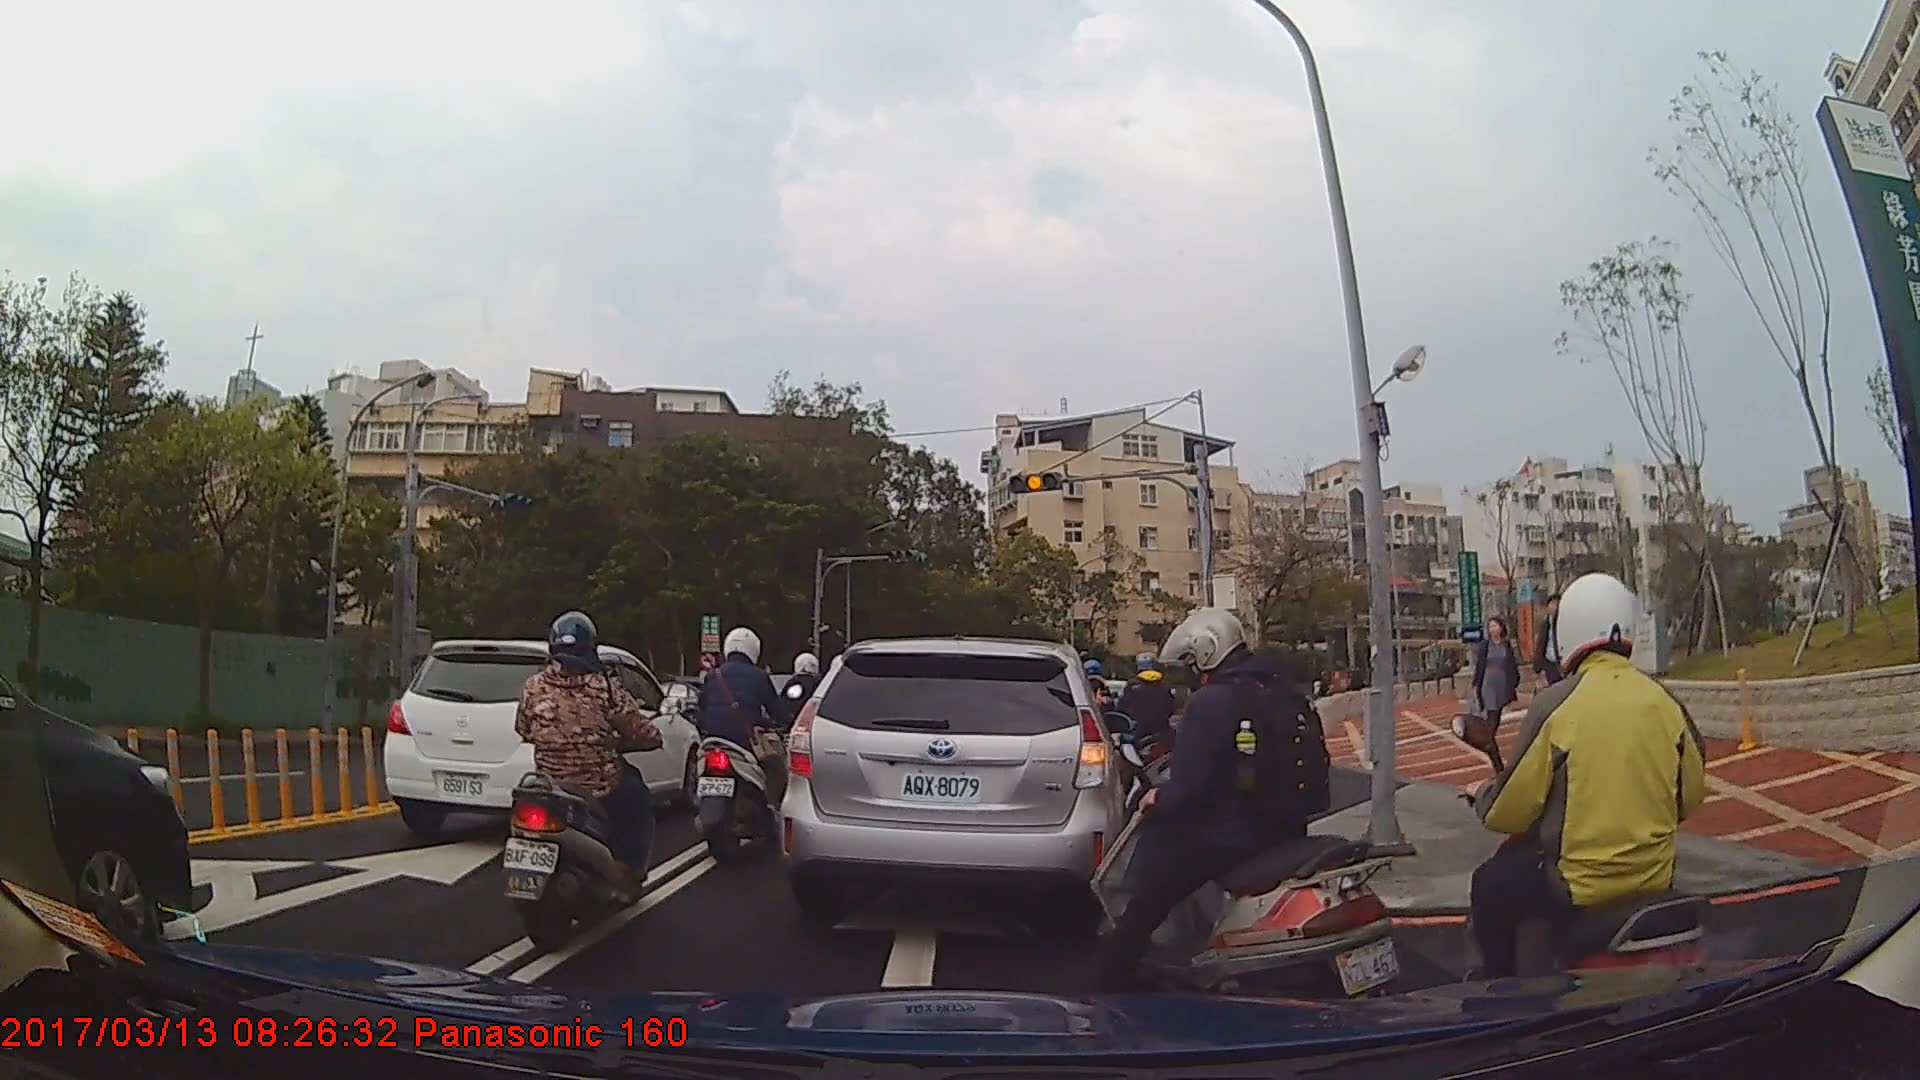pedestrian: (1540, 591, 1593, 744), (1469, 617, 1523, 755)
rider: (1081, 603, 1410, 1013), (1461, 565, 1722, 1056), (499, 609, 664, 953), (691, 624, 804, 863), (1110, 650, 1186, 829), (775, 653, 833, 809)
vehicle: (776, 634, 1120, 933), (382, 639, 704, 844), (0, 664, 194, 955)
